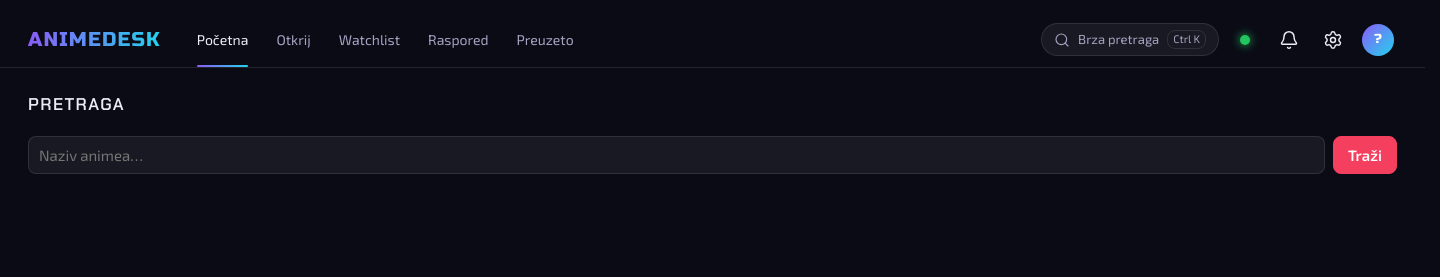
App › opens the Discover page from the menu
The width and height of the screenshot is (1440, 277).
Click the button "Otkrij": click(294, 40) [264, 12, 323, 67]
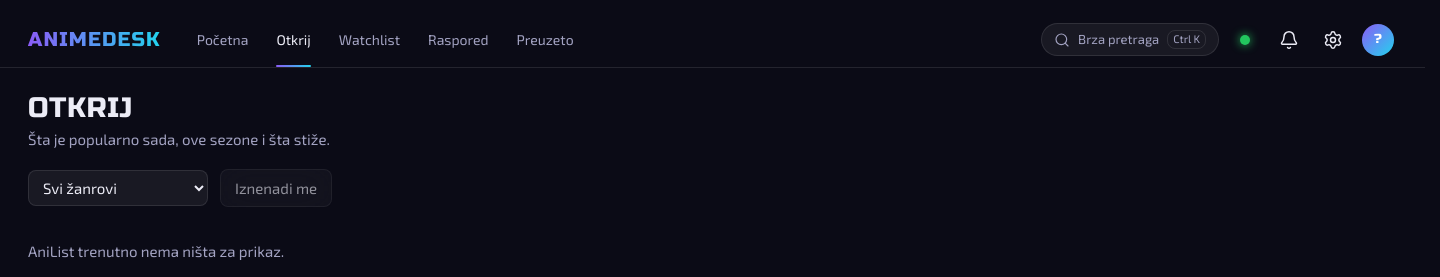
Expected: the heading "Otkrij" is shown, [28, 91, 133, 125]
